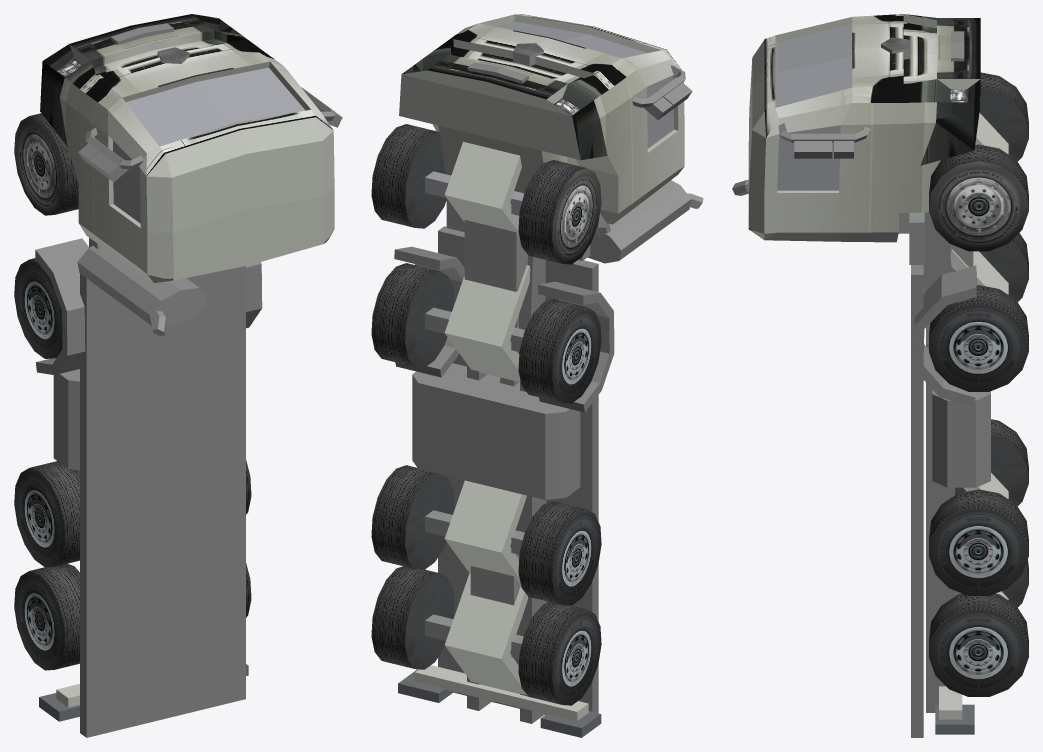
Rendered from Truck.gltf.
3 renders of one model, left to right at view 1: azimuth 30°, elevation 25°; view 2: azimuth 150°, elevation 25°; view 3: azimuth 270°, elevation 25°, orthographic. The views are drawn at different scales.
Visible parts, largest first — view 1: Truck_1, WheelRL016, WheelRL014, WheelRL012, WheelRL018; view 2: Truck_1, WheelRL012, WheelRL018, WheelRL014, WheelRL016, WheelRL015, WheelRL017, WheelRL013, WheelRL011; view 3: Truck_1, WheelRL013, WheelRL015, WheelRL011, WheelRL017, WheelRL012, WheelRL014, WheelRL018, WheelRL016.
Boxes of the visible parts, x1=… form: Truck_1: x1=35, y1=14, x2=342, y2=737; WheelRL016: x1=14, y1=563, x2=79, y2=670; WheelRL014: x1=14, y1=461, x2=79, y2=567; WheelRL012: x1=14, y1=113, x2=78, y2=215; WheelRL018: x1=14, y1=258, x2=62, y2=358; Truck_1: x1=394, y1=14, x2=703, y2=737; WheelRL012: x1=518, y1=160, x2=601, y2=264; WheelRL018: x1=518, y1=299, x2=601, y2=403; WheelRL014: x1=518, y1=501, x2=601, y2=605; WheelRL016: x1=518, y1=602, x2=601, y2=705; WheelRL015: x1=371, y1=566, x2=454, y2=669; WheelRL017: x1=371, y1=263, x2=454, y2=367; WheelRL013: x1=371, y1=465, x2=454, y2=569; WheelRL011: x1=371, y1=124, x2=446, y2=228; Truck_1: x1=732, y1=14, x2=1008, y2=737; WheelRL013: x1=929, y1=489, x2=1028, y2=595; WheelRL015: x1=929, y1=593, x2=1028, y2=696; WheelRL011: x1=929, y1=144, x2=1028, y2=251; WheelRL017: x1=929, y1=285, x2=1028, y2=391; WheelRL012: x1=979, y1=72, x2=1028, y2=161; WheelRL014: x1=955, y1=419, x2=1028, y2=506; WheelRL018: x1=954, y1=233, x2=1028, y2=301; WheelRL016: x1=1002, y1=559, x2=1028, y2=607.
Size of the model in its own units: 0.6478 by 1.77 by 0.7261.
6 materials, 3 textured.
